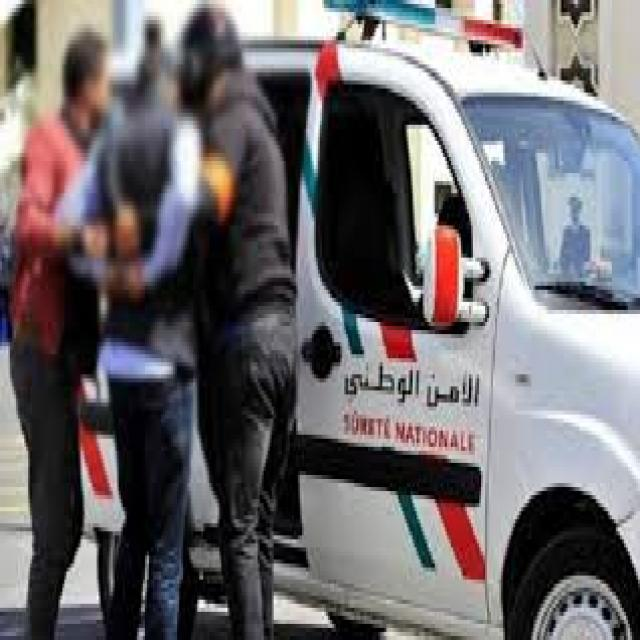police: (197, 1, 640, 636)
